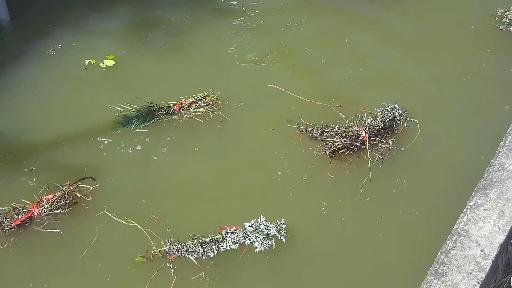leaf: (69, 53, 130, 76)
twig: (265, 79, 418, 189), (89, 203, 288, 274), (104, 88, 243, 158), (0, 169, 110, 237), (485, 4, 512, 34)
